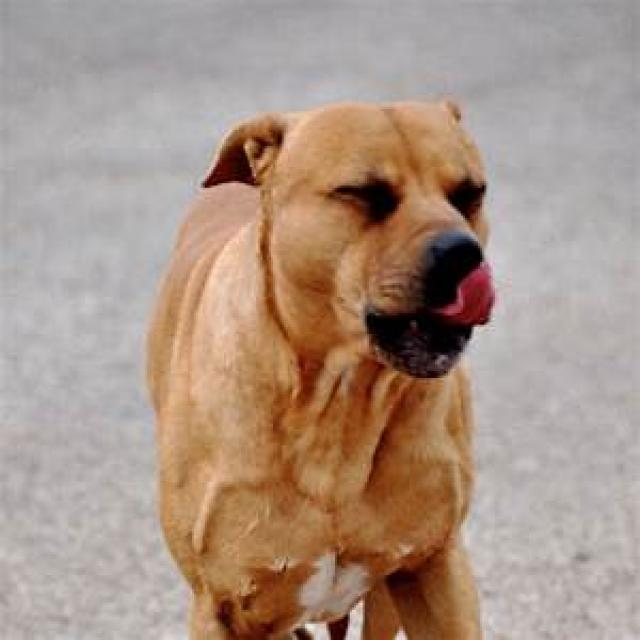dog: (141, 100, 499, 640)
